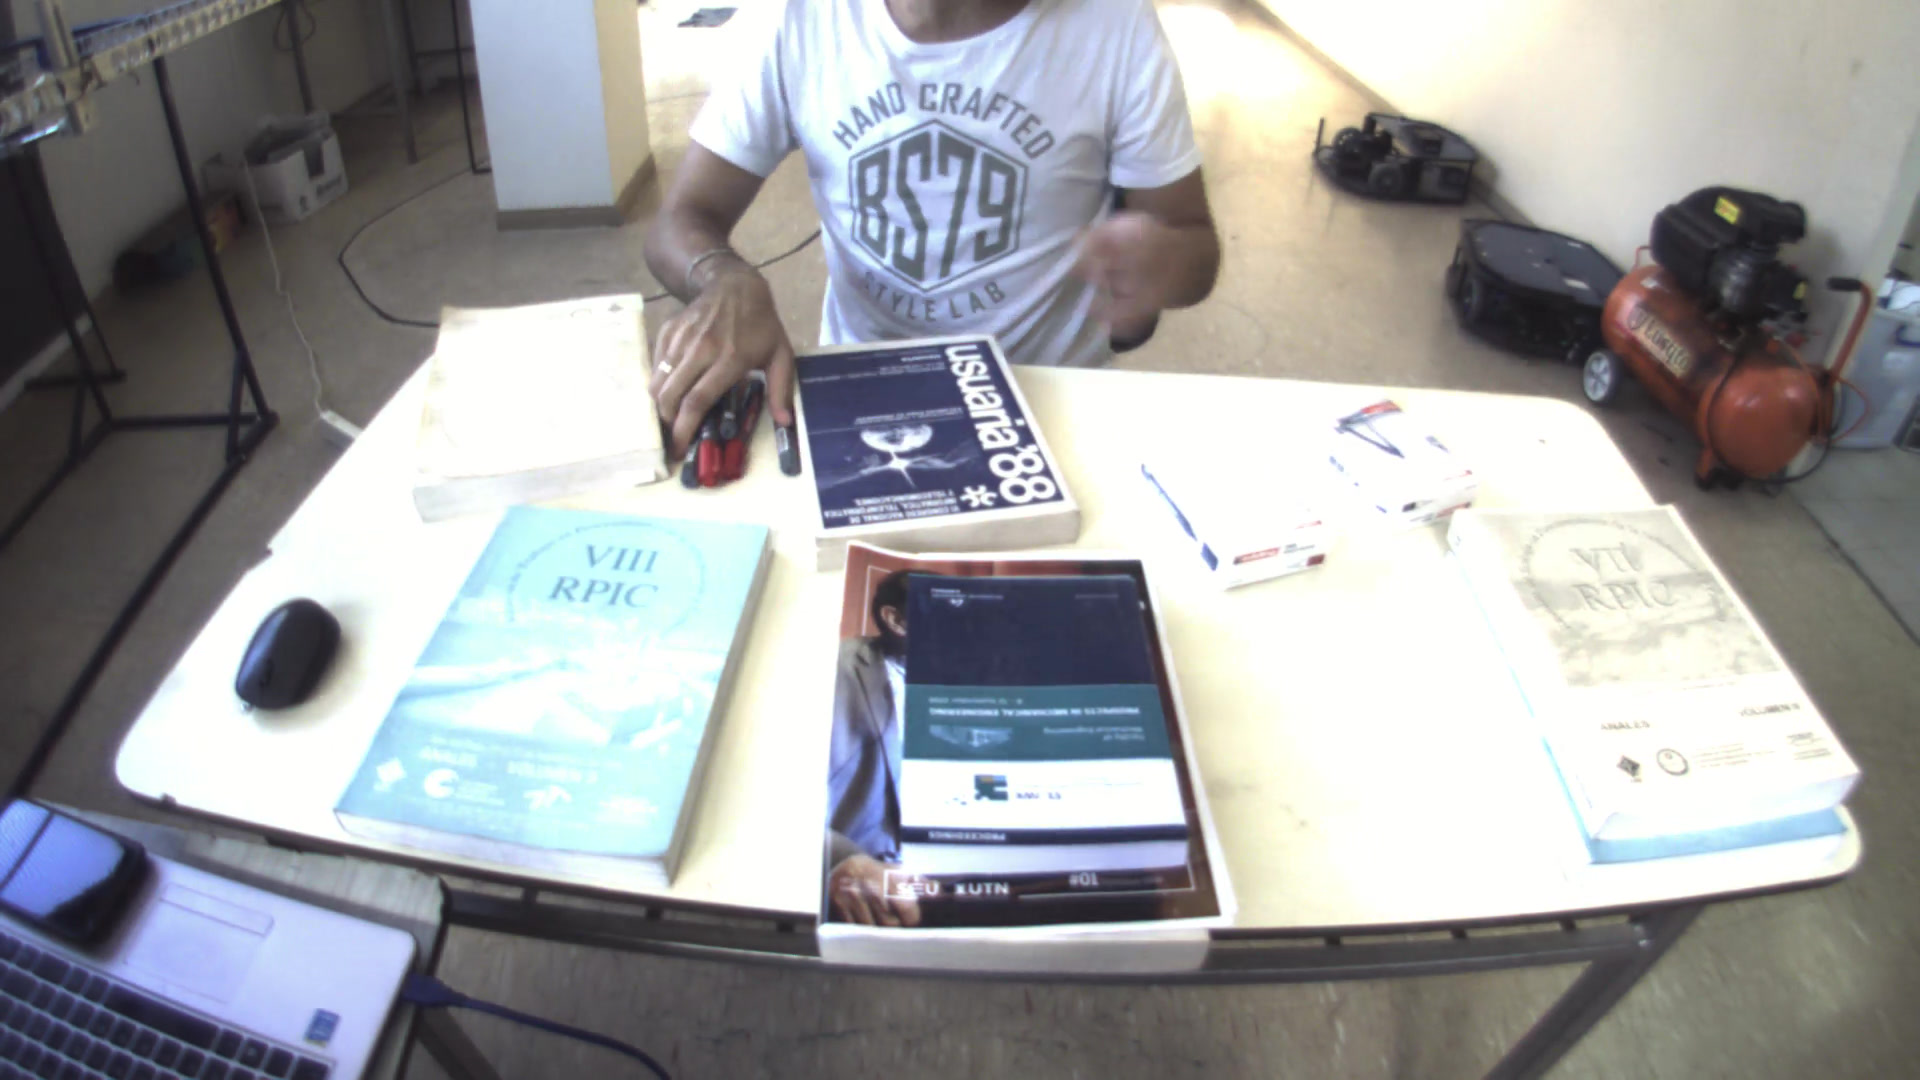hand: (634, 245, 806, 458), (1054, 198, 1218, 336)
